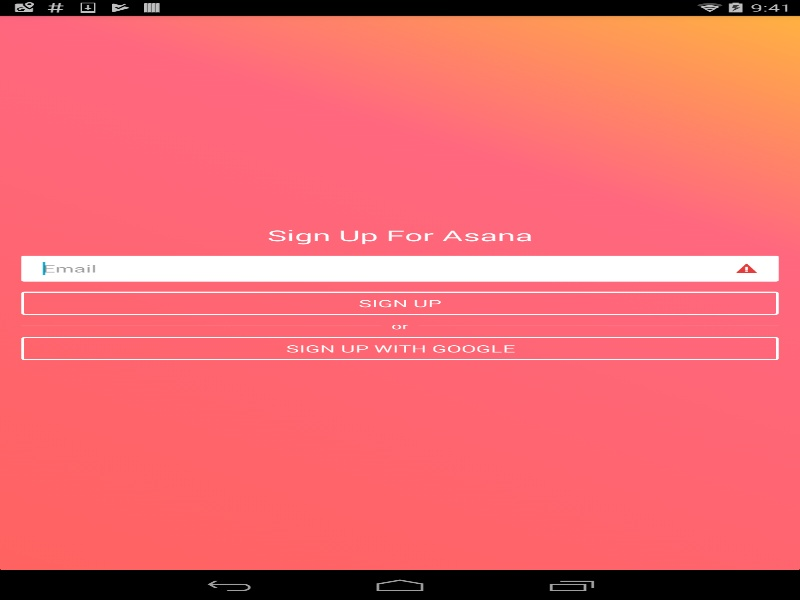Input: (42, 261, 730, 275)
